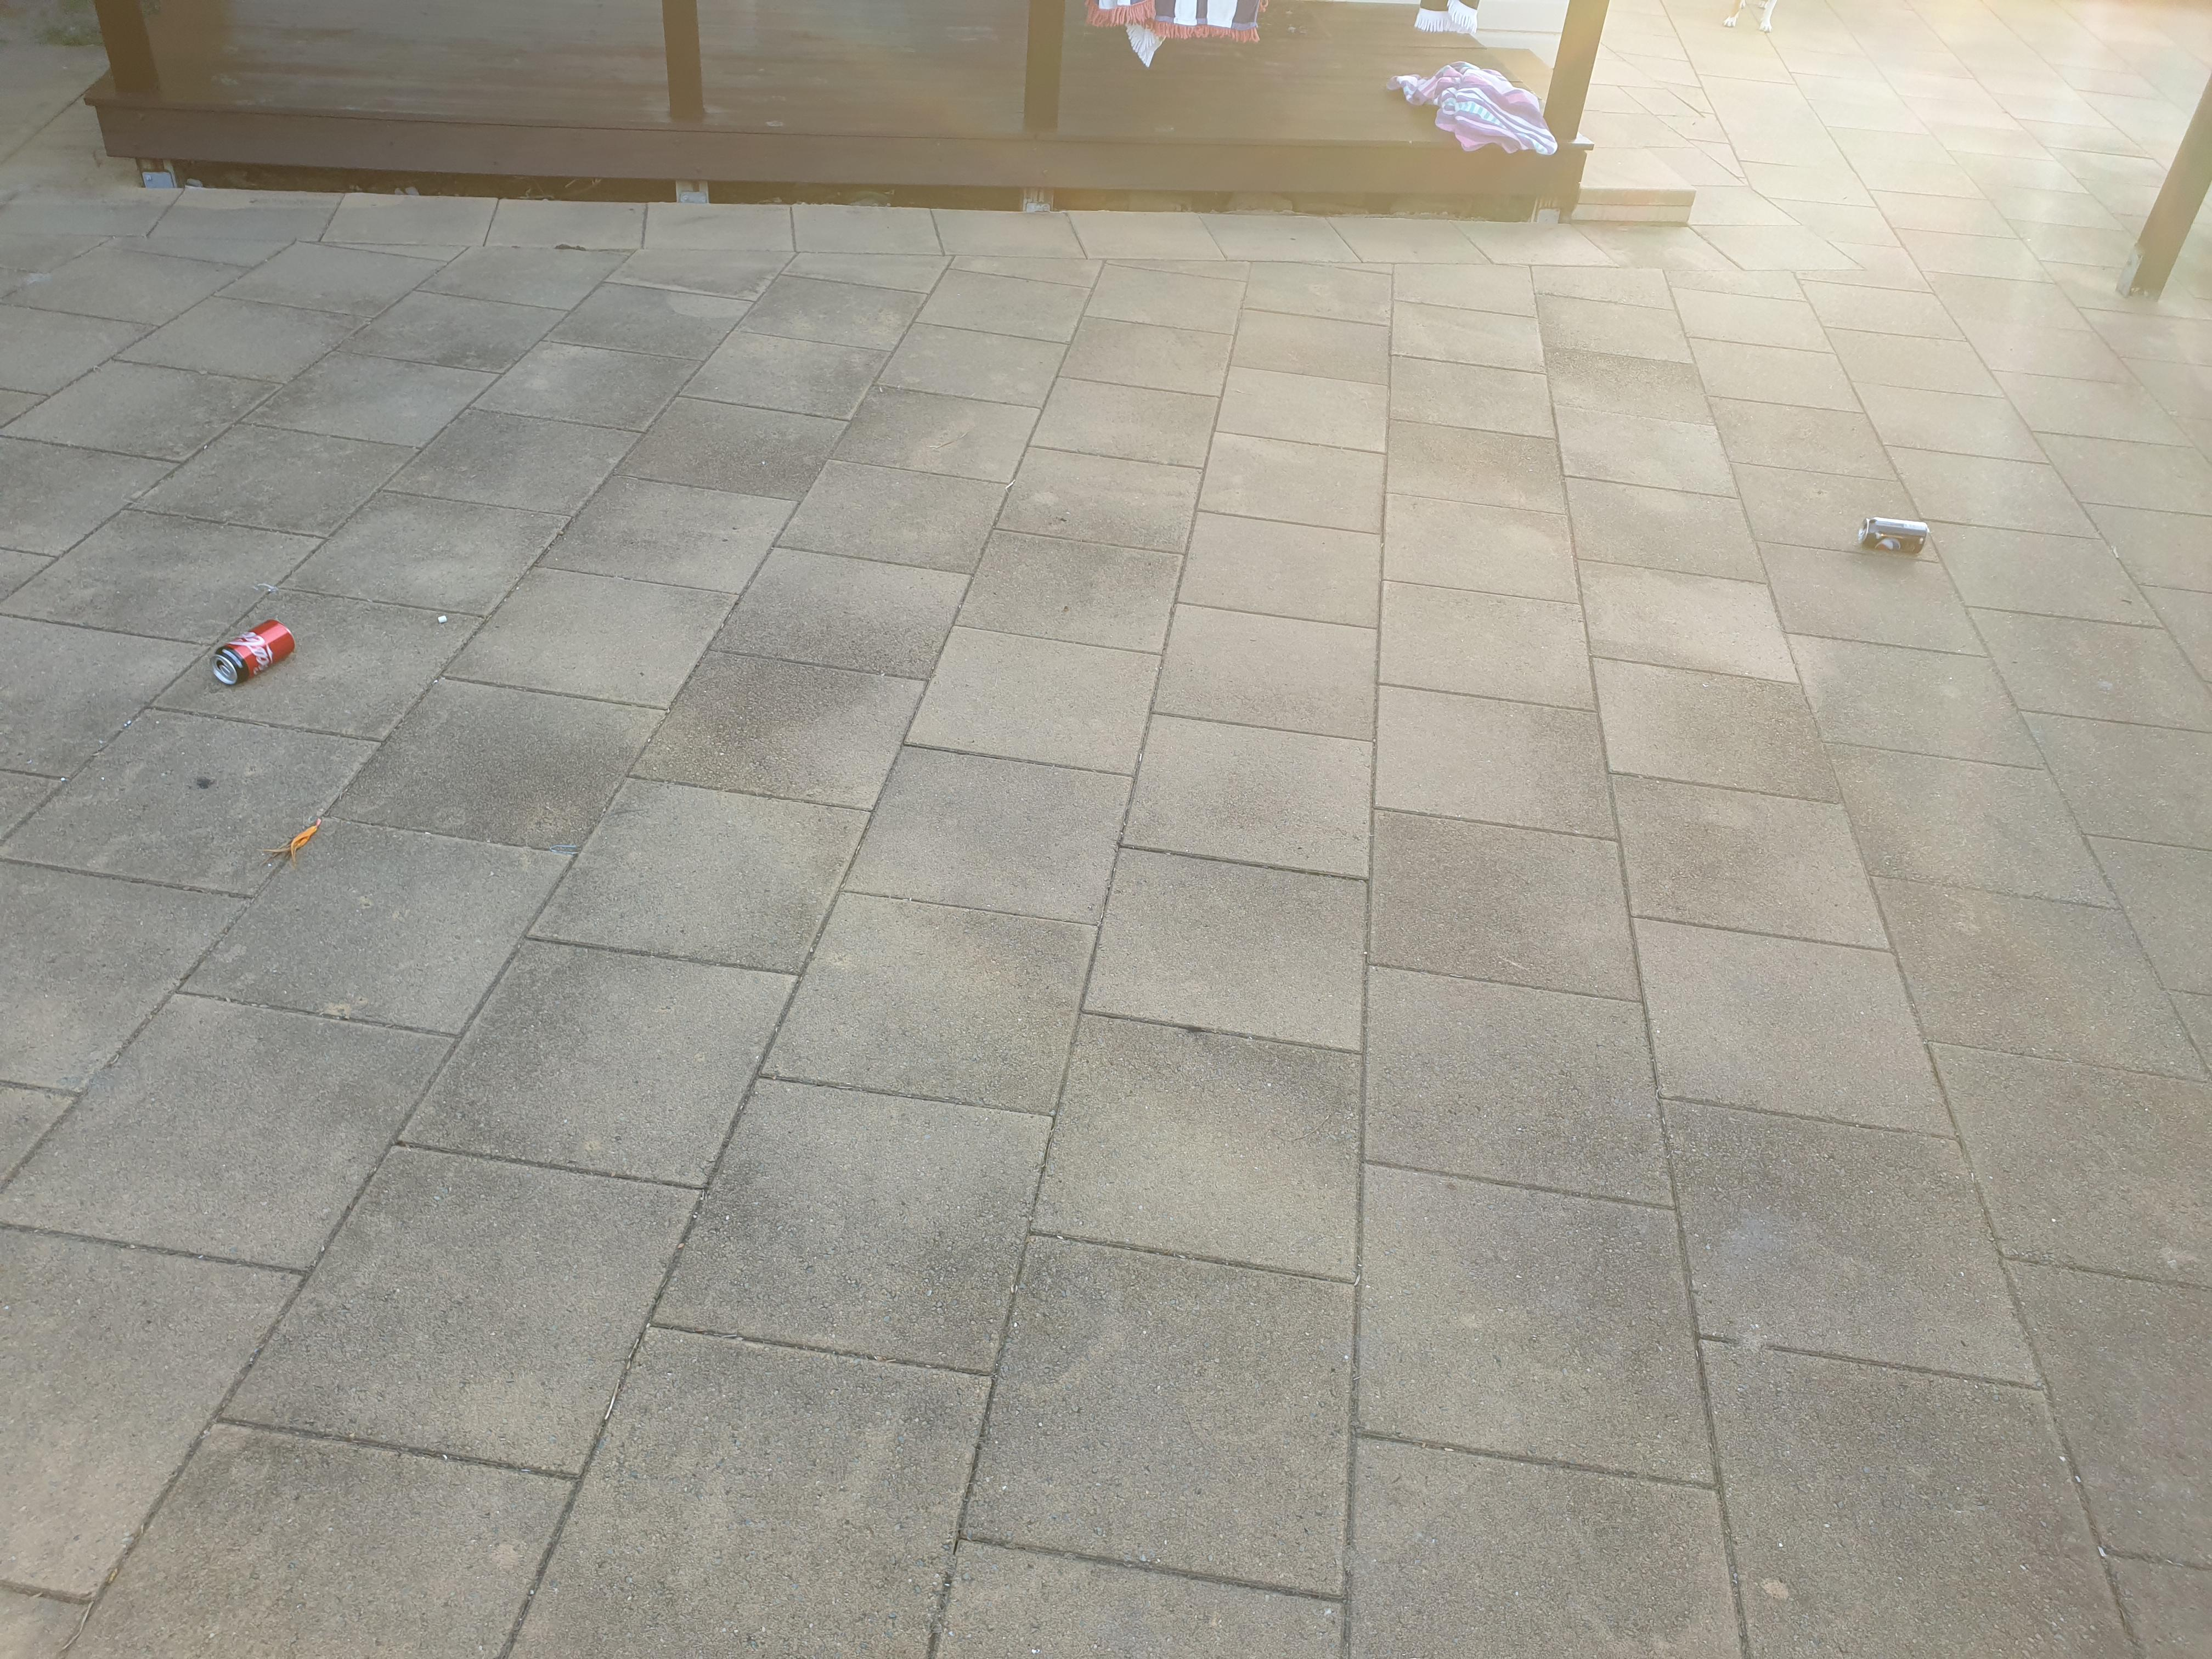Plastic Bottle: (211, 619, 294, 685), (1858, 518, 1930, 554)
